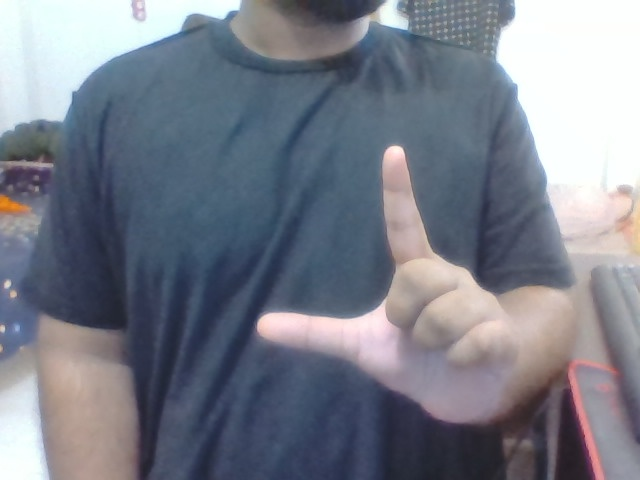L: (230, 137, 529, 428)
